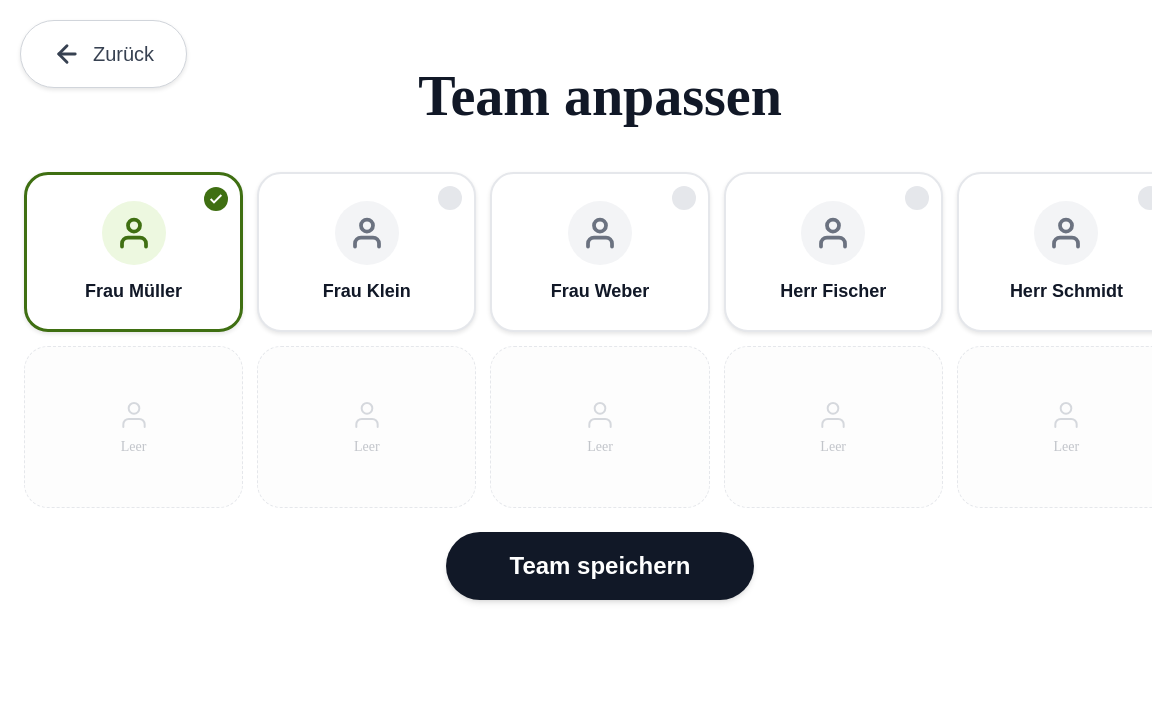
Test case: TeamManagementPage › shows error modal when api.updateSessionSupervisors fails
The image size is (1152, 720).
Click the button "Team speichern" at (600, 566), box [446,532,754,600]
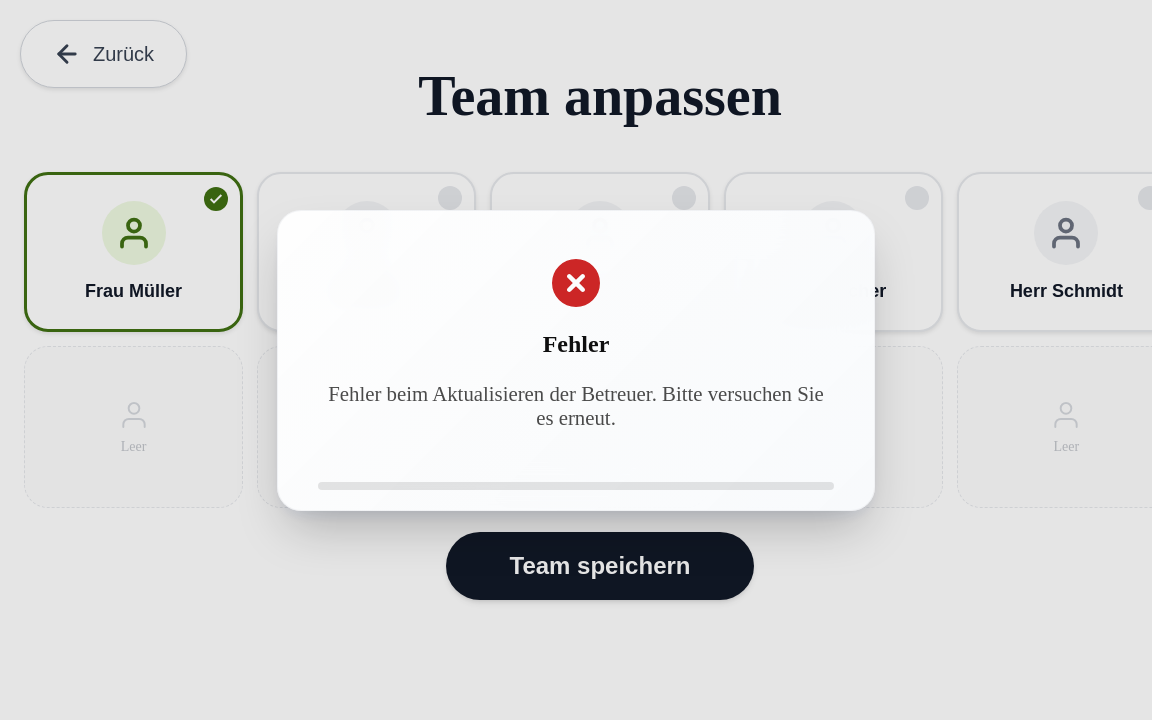
Expected: the text "Fehler beim Aktualisieren der Betreuer. Bitte versuchen Sie es erneut." is shown, [326,382,826,430]
